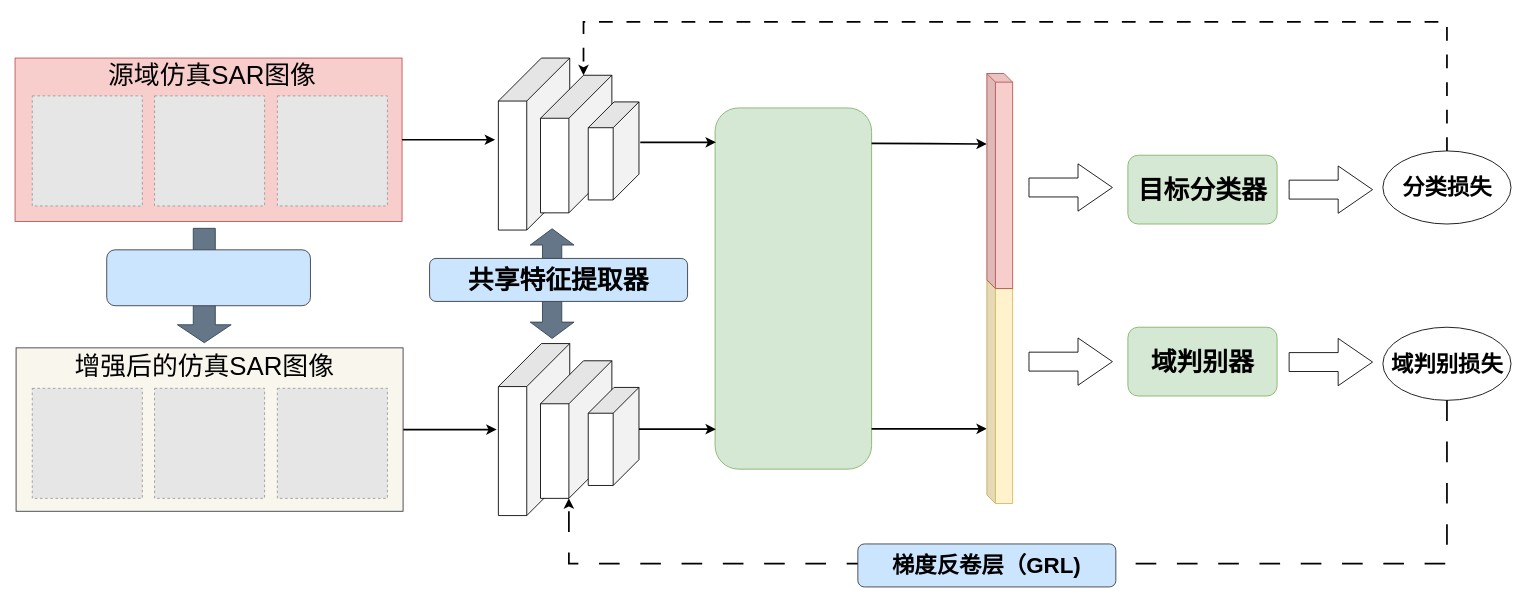
The diagram is 1527 pixels wide and 606 high, and some of its shapes have lost their labels. Grey dashed boxes stand in for pictures. Here are the shapes that lost their labels. From the top down, the centre of each, then its label:
[208,277]: 像素级数据增强
[793,288]: 特征级风格 混淆模块
